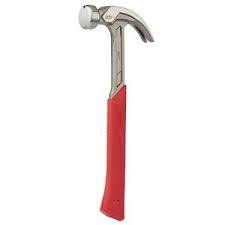hammer: (76, 2, 155, 223)
